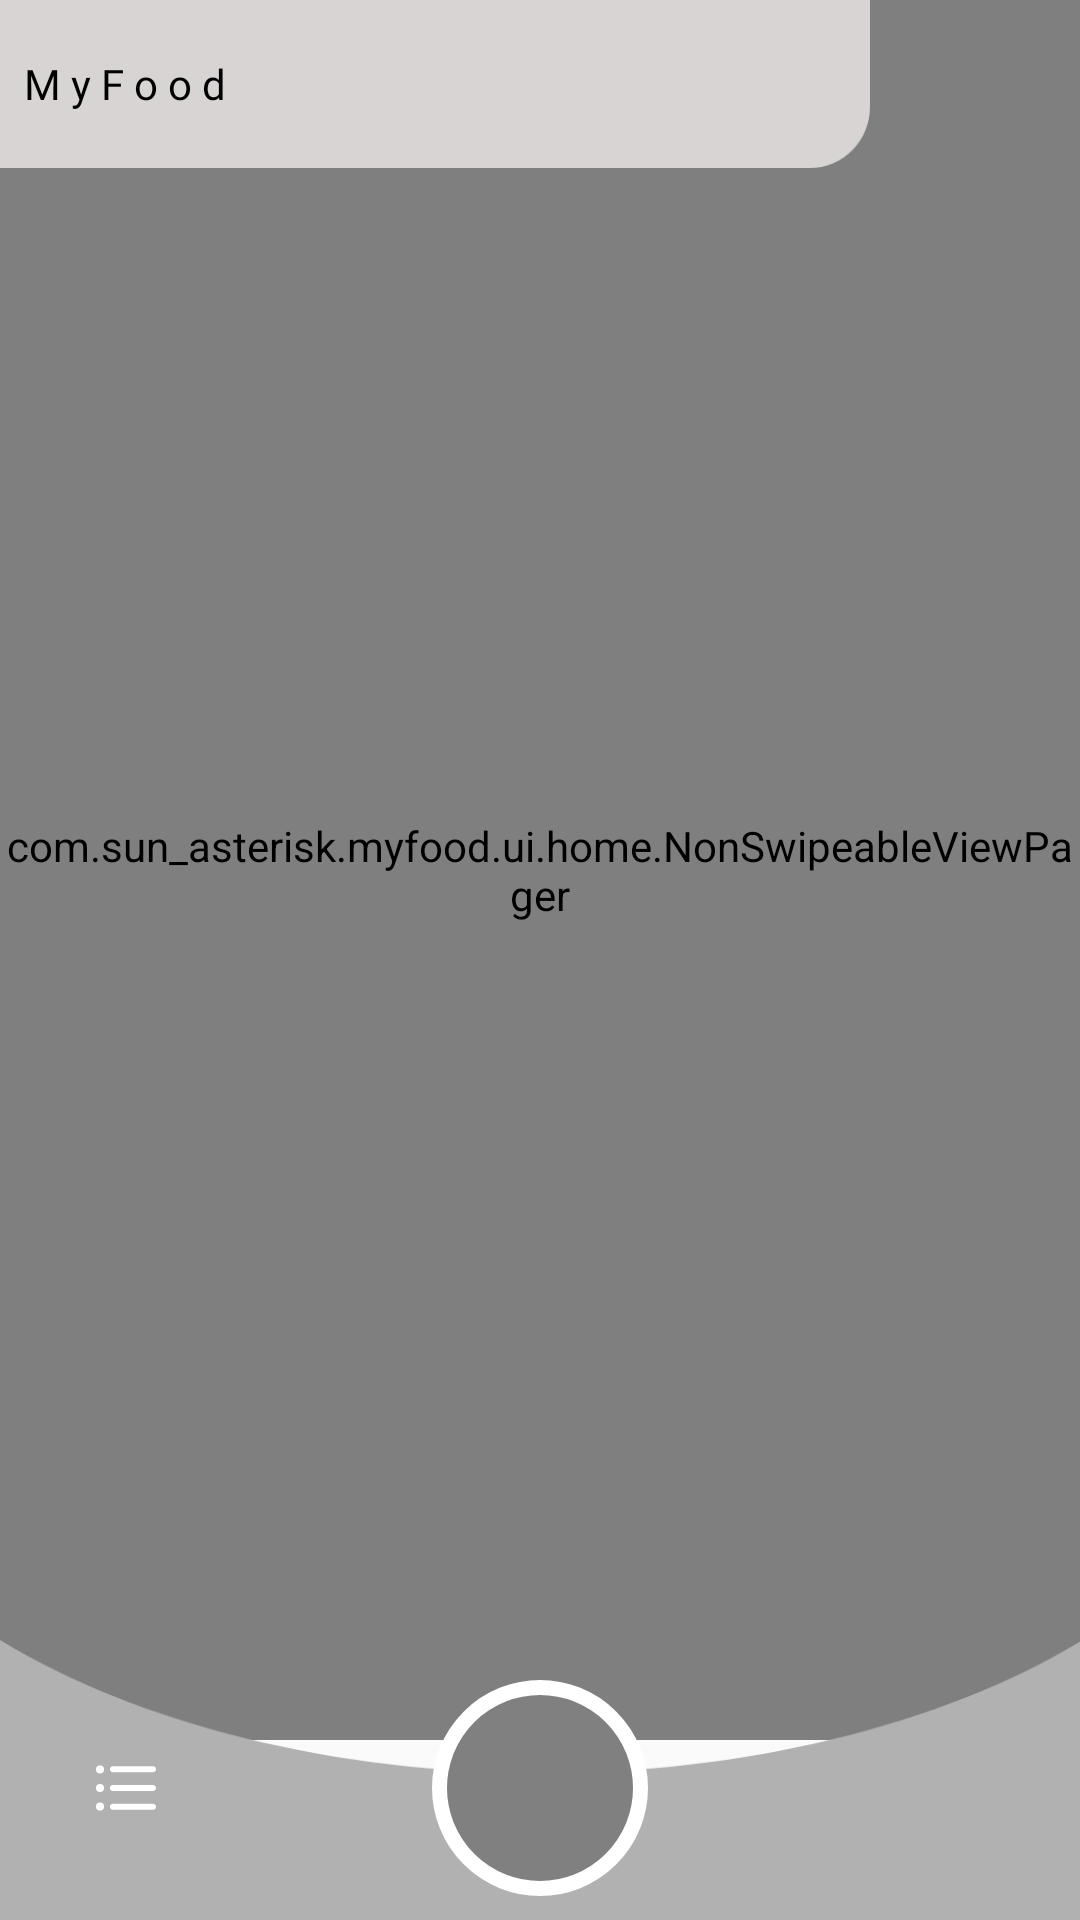

Icons on this 1080 x 1920 Android screen, each with its box as [x1=x1, y1=y1, x2=x2, y2=y2]:
order: [x1=96, y1=1765, x2=156, y2=1811]
